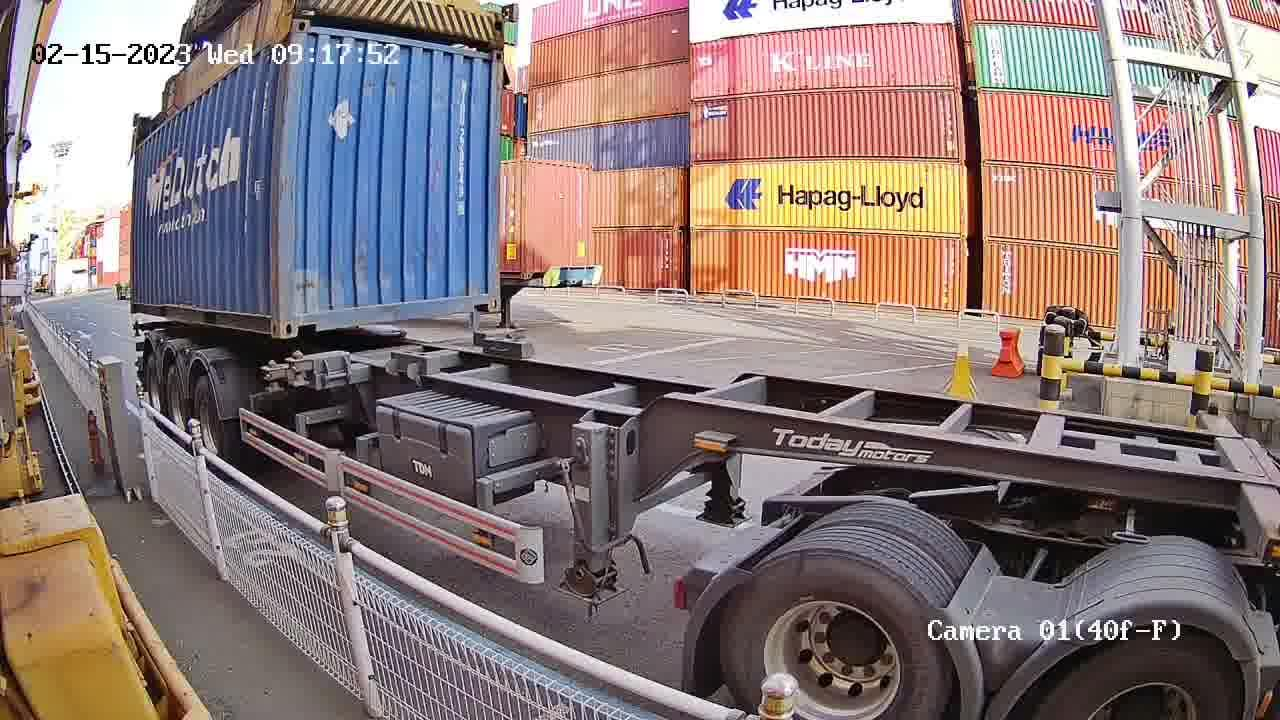Chassis: (279, 330, 505, 380)
Cone: (288, 349, 306, 384)
Hole_L: (282, 301, 318, 338)
Hole_R: (466, 276, 501, 311), (255, 297, 283, 340)
Tire: (719, 553, 948, 712), (1044, 636, 1242, 718), (193, 377, 223, 450), (163, 368, 189, 429), (144, 358, 160, 413)
